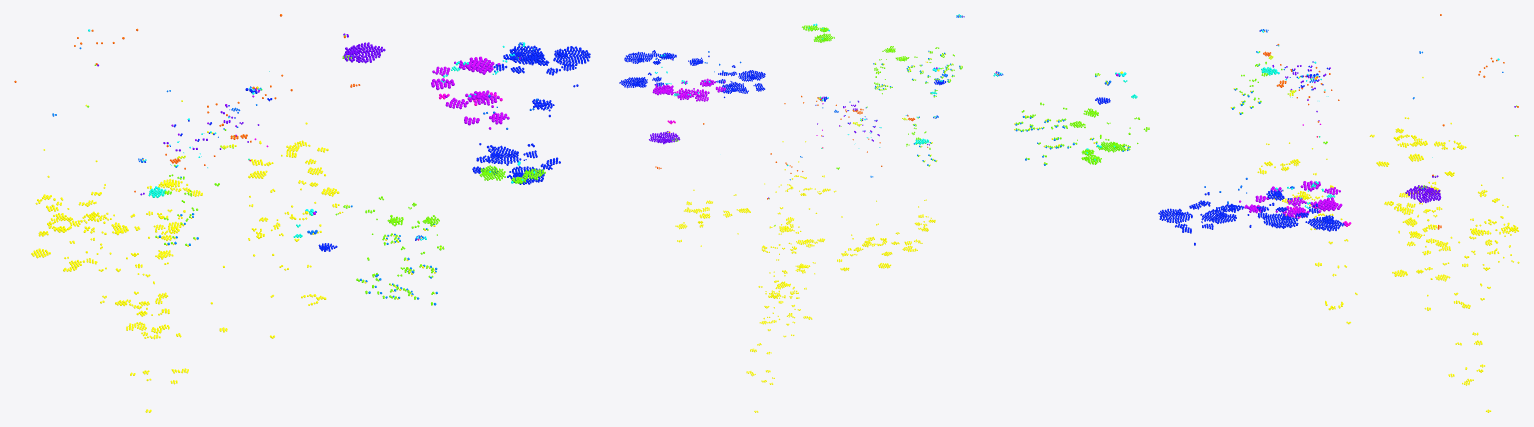
File: task-05a0ad8c8-layout.gltf
The picture shows the model from 3 angles, left to right: view 1: azimuth 30°, elevation 25°; view 2: azimuth 150°, elevation 25°; view 3: azimuth 270°, elevation 25°; orthographic projection. The views are drawn at different scales.
Parts seen in each view (by area): view 1: normal_java_files, normal_md_files, normal_png_files, normal_ts_files, normal_yml_files, normal_txt_files; view 2: normal_java_files, normal_md_files, normal_png_files, normal_ts_files, normal_yml_files; view 3: normal_java_files, normal_md_files, normal_png_files, normal_ts_files, normal_yml_files.
Boxes of the visible parts, box(x1,y1,x2,y2) form: normal_java_files: box(31, 122, 339, 412); normal_md_files: box(144, 43, 590, 251); normal_png_files: box(252, 56, 509, 214); normal_ts_files: box(155, 164, 444, 305); normal_yml_files: box(97, 33, 385, 195); normal_txt_files: box(94, 35, 545, 186); normal_java_files: box(675, 161, 935, 412); normal_md_files: box(619, 16, 964, 131); normal_png_files: box(652, 67, 937, 122); normal_ts_files: box(874, 46, 962, 166); normal_yml_files: box(649, 97, 929, 198); normal_java_files: box(1257, 117, 1519, 412); normal_md_files: box(996, 30, 1343, 245); normal_png_files: box(1116, 73, 1346, 225); normal_ts_files: box(1015, 51, 1268, 164); normal_yml_files: box(1272, 65, 1515, 202).
Size of the model in its own units: 582 by 461 by 651.
